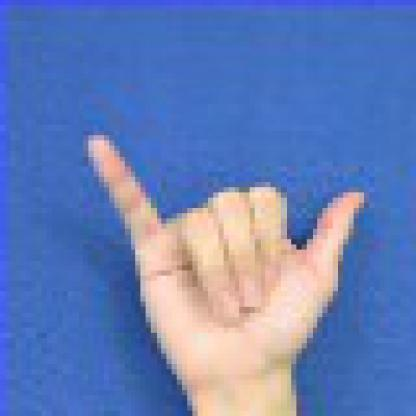six: (68, 114, 395, 411)
